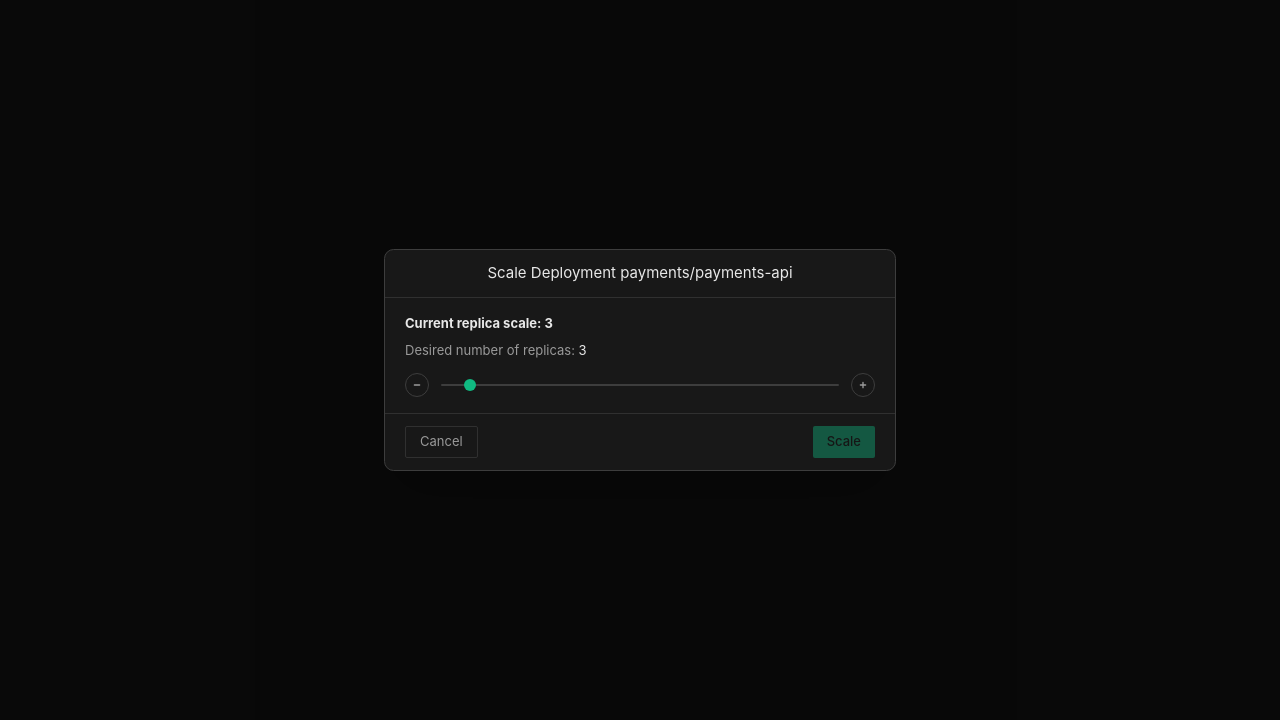
Test: ScaleDialog › steps by one from either side
The image size is (1280, 720).
Step 1. Click the button named "One more" → [863, 385], box top-left (851, 373), bottom-right (875, 397)
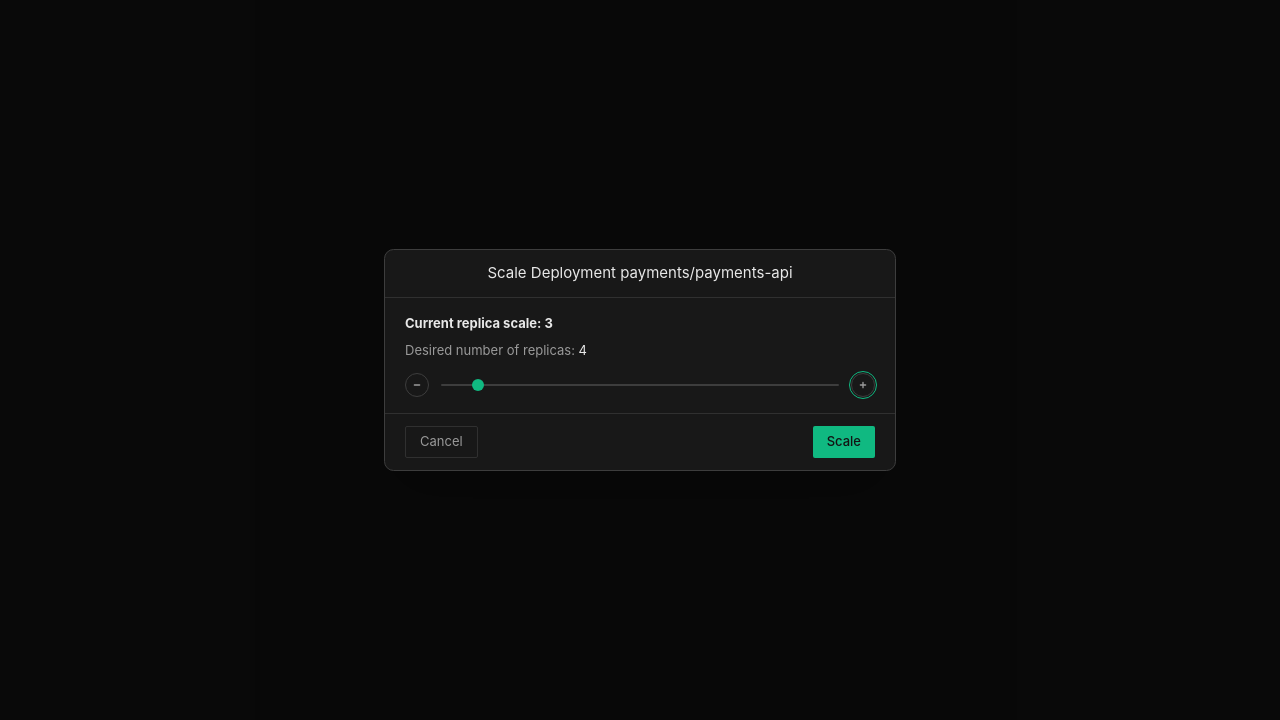
Check: the slider named "Desired number of replicas" holds "4", box top-left (441, 375), bottom-right (839, 395)
Step 2. Click the button named "One fewer" → [417, 385], box top-left (405, 373), bottom-right (429, 397)
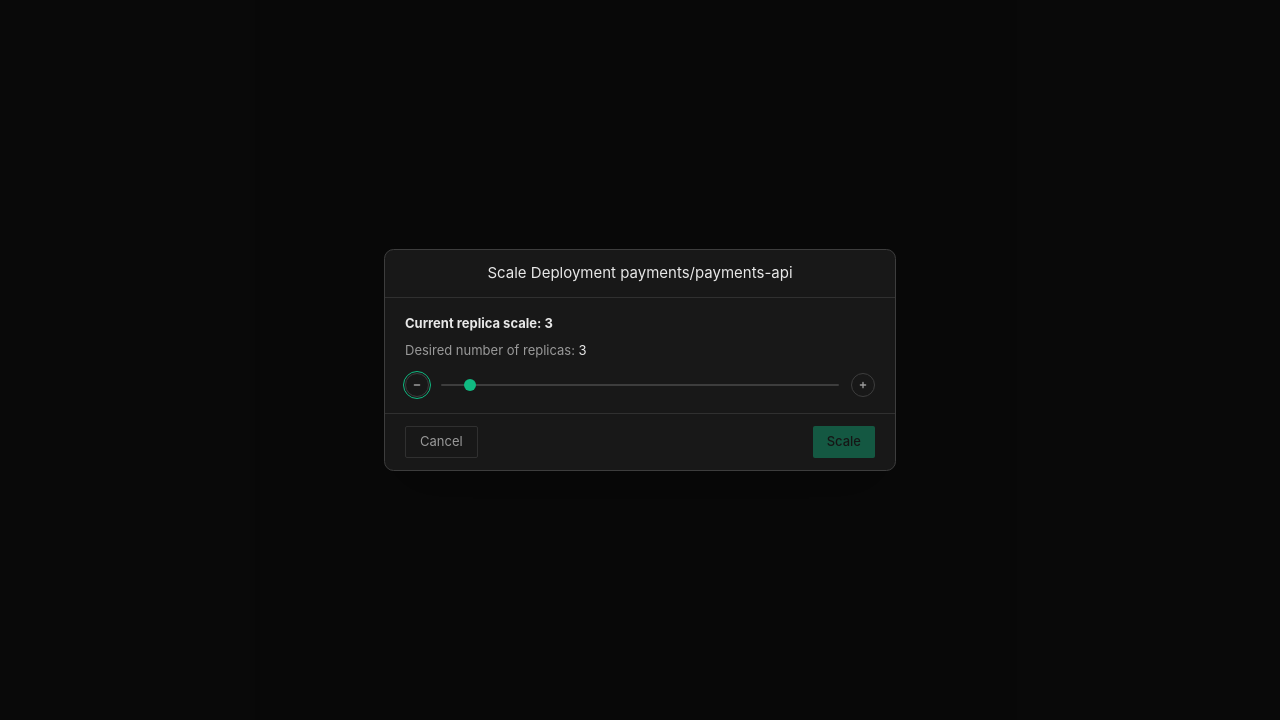
Step 3. Click the button named "One fewer" → [417, 385], box top-left (405, 373), bottom-right (429, 397)
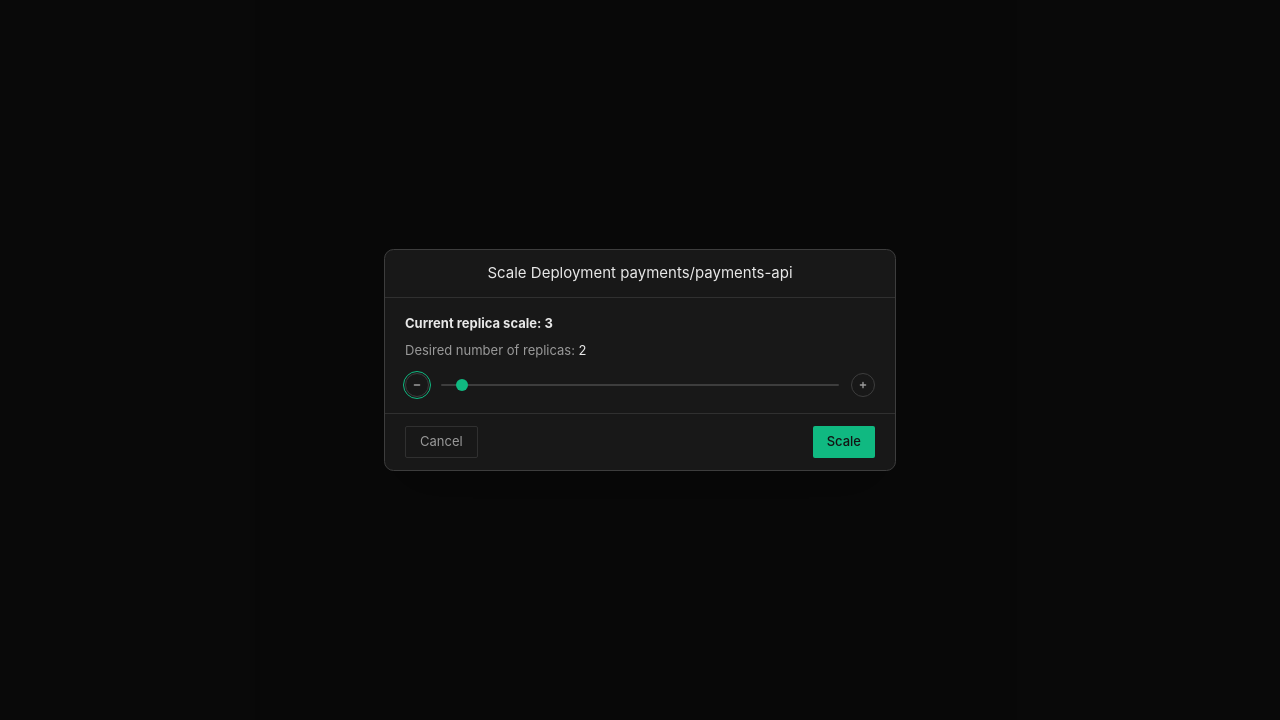
Check: the slider named "Desired number of replicas" holds "2", box top-left (441, 375), bottom-right (839, 395)
